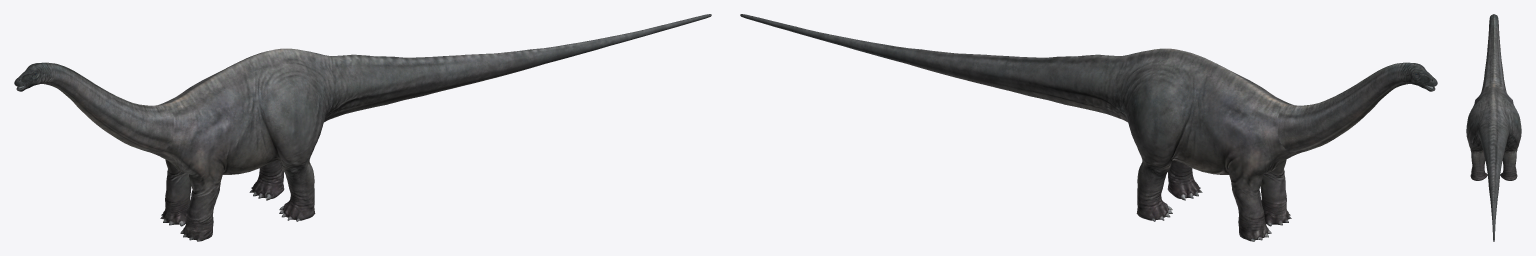
Rendered from apatosaurus.glb.
3 views of the same model, side by side, from view 1: azimuth 30°, elevation 25°; view 2: azimuth 150°, elevation 25°; view 3: azimuth 270°, elevation 25° (orthographic). The views are drawn at different scales.
Visible parts, largest first — view 1: Animal; view 2: Animal; view 3: Animal.
Part boxes in pixels (x1=…): Animal: x1=14, y1=14, x2=711, y2=241; Animal: x1=740, y1=14, x2=1437, y2=241; Animal: x1=1466, y1=14, x2=1521, y2=241.
Bounding box in the file's own units: 3.2 × 0.8824 × 0.4316.
1 material, 1 textured.
